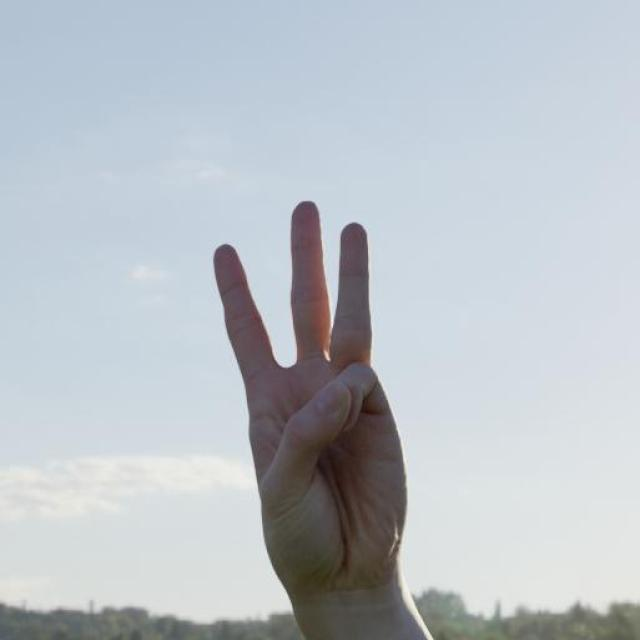W: (210, 194, 416, 617)
